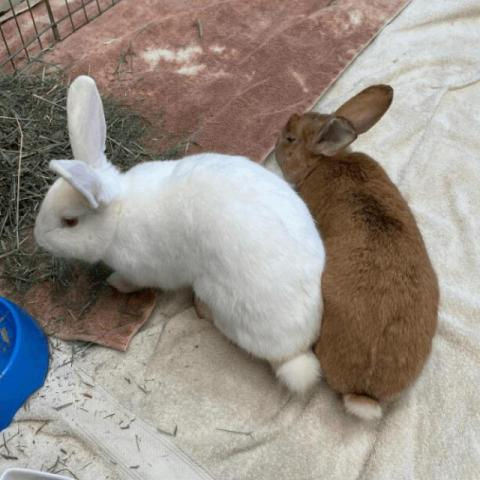small_animal: (31, 73, 327, 394), (270, 84, 443, 415)
